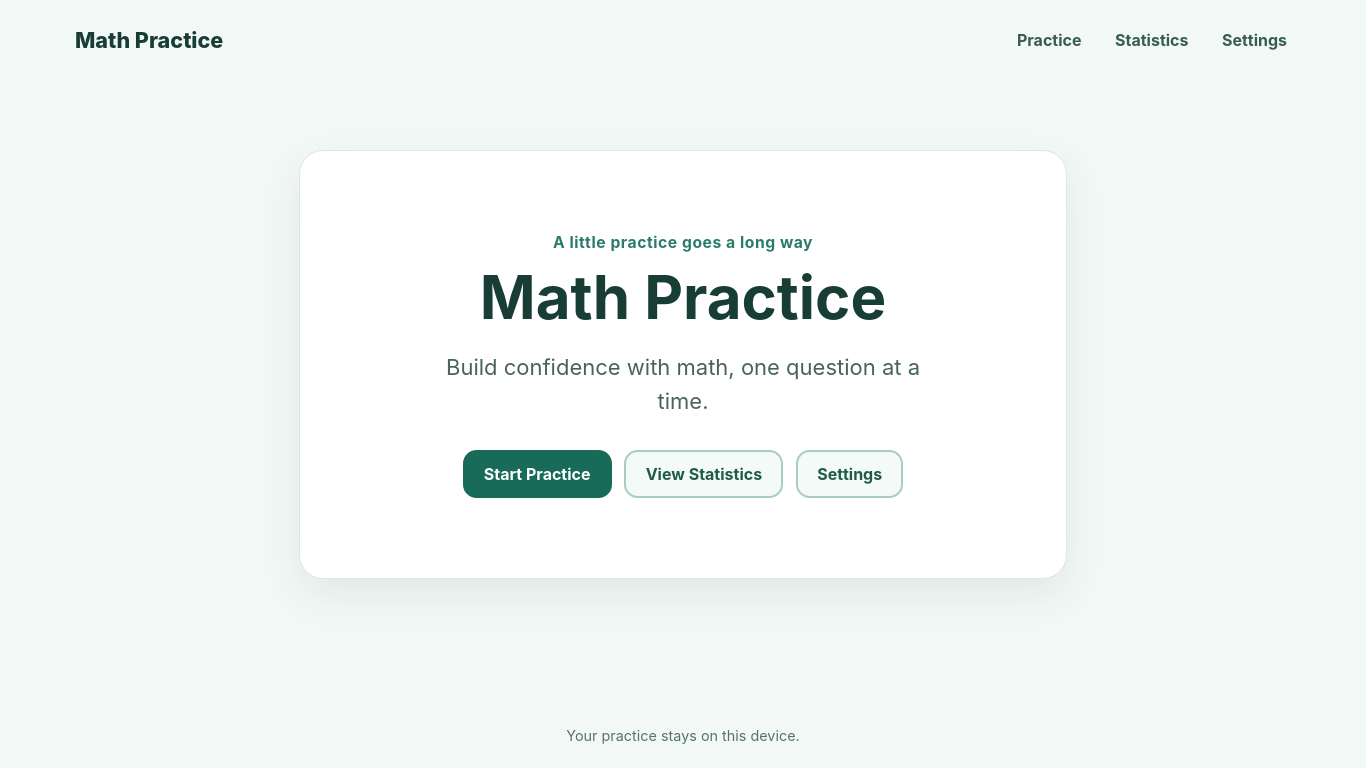
Test: App › ends continuous practice after confirmation
Click the link "Start Practice" at (537, 474), box [463, 450, 612, 498]
(page scrolled)
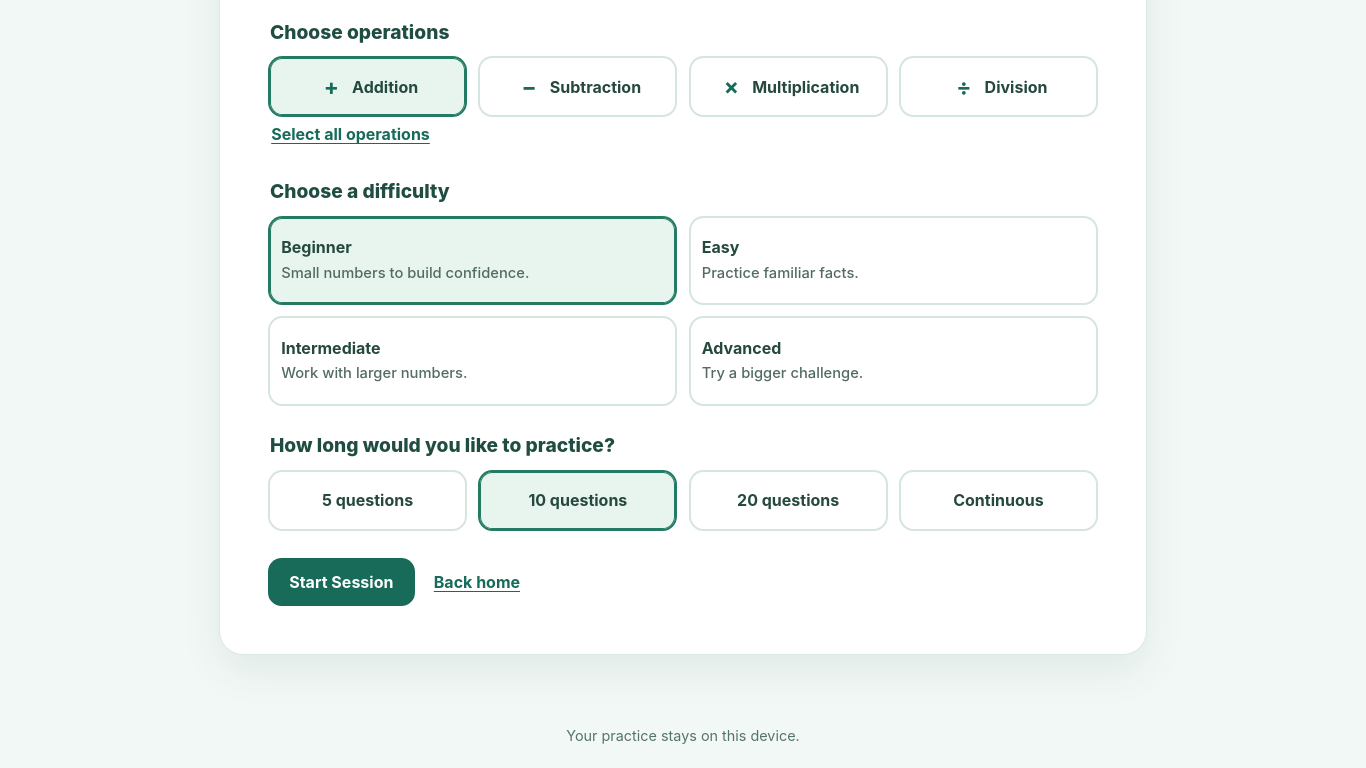
Click the button "Continuous" at (998, 500), box [899, 470, 1098, 531]
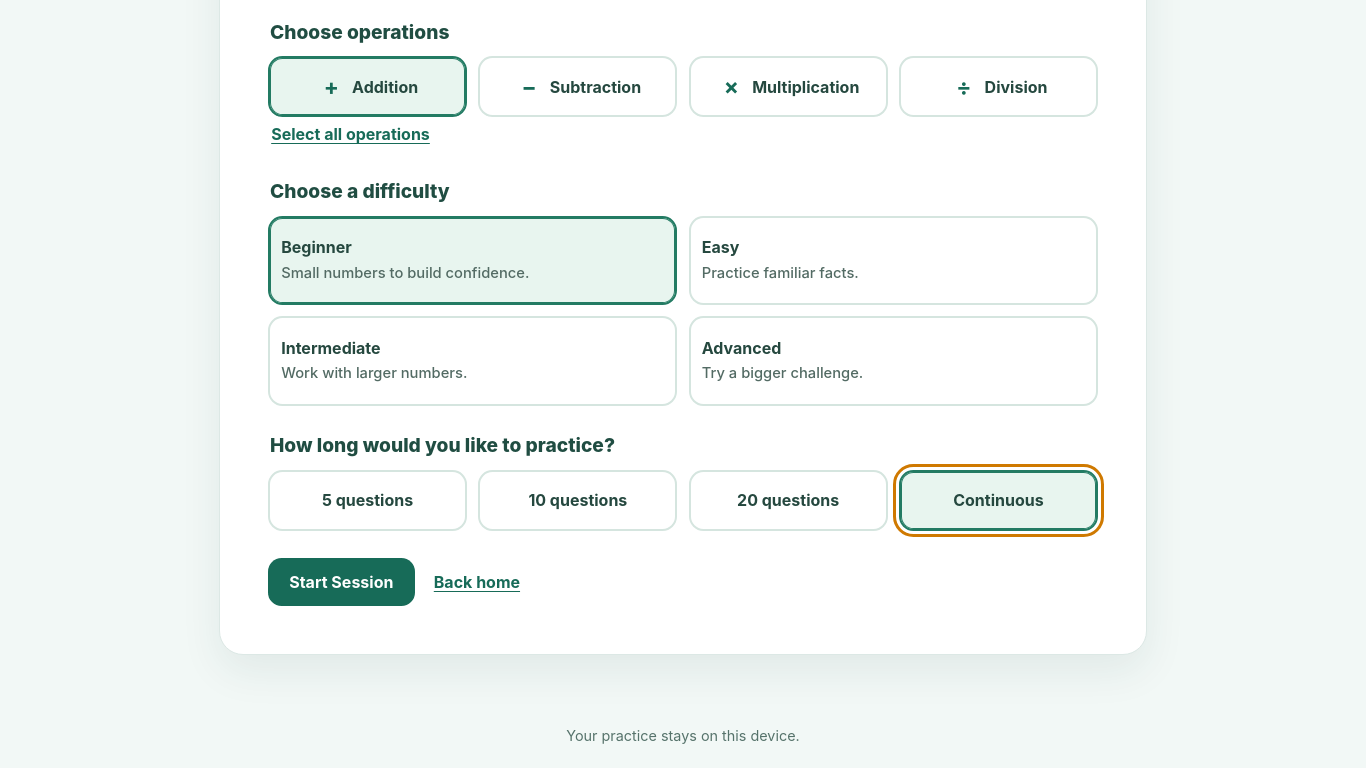
Click the button "Start Session" at (341, 582), box [268, 558, 415, 606]
(page scrolled)
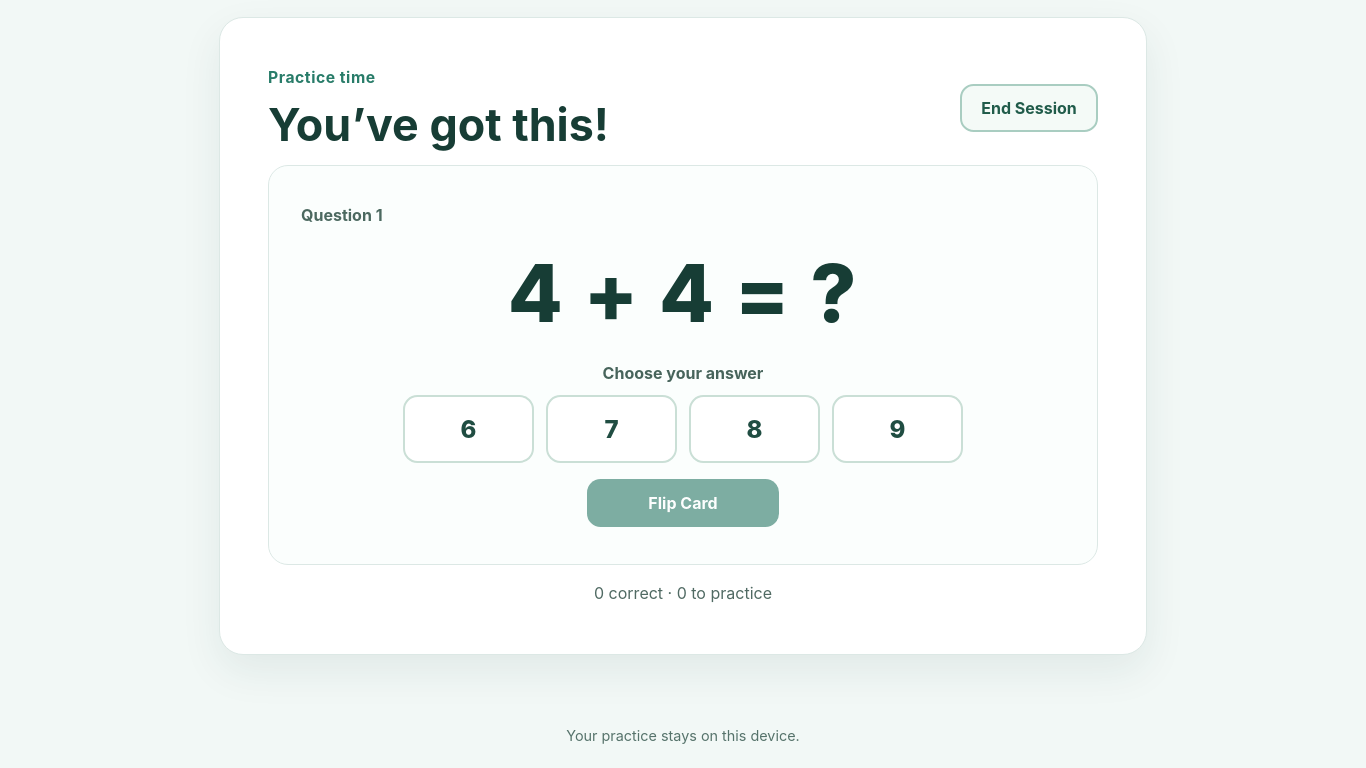
Click the button "End Session" at (1029, 108), box [960, 84, 1098, 132]
(page scrolled)
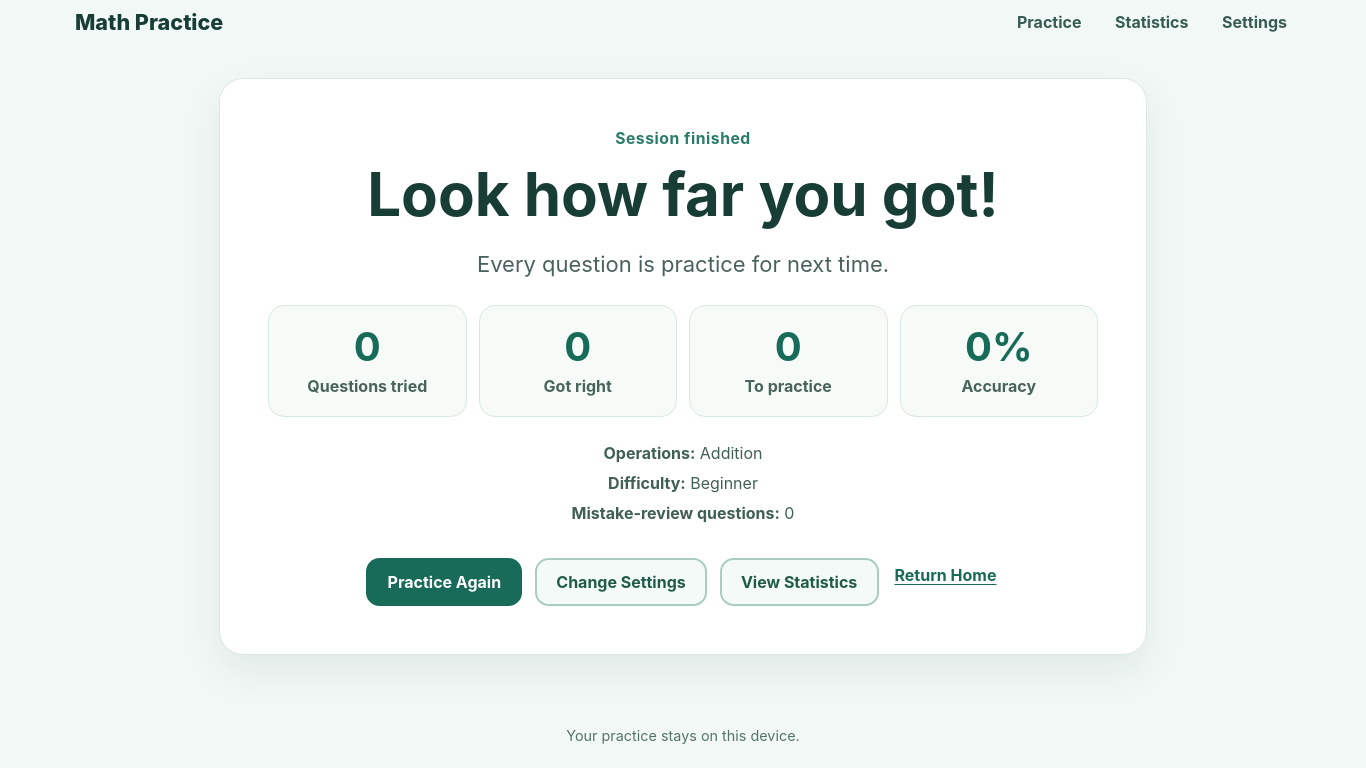
Result: the text "Session finished" is shown at [615, 129, 751, 148]
